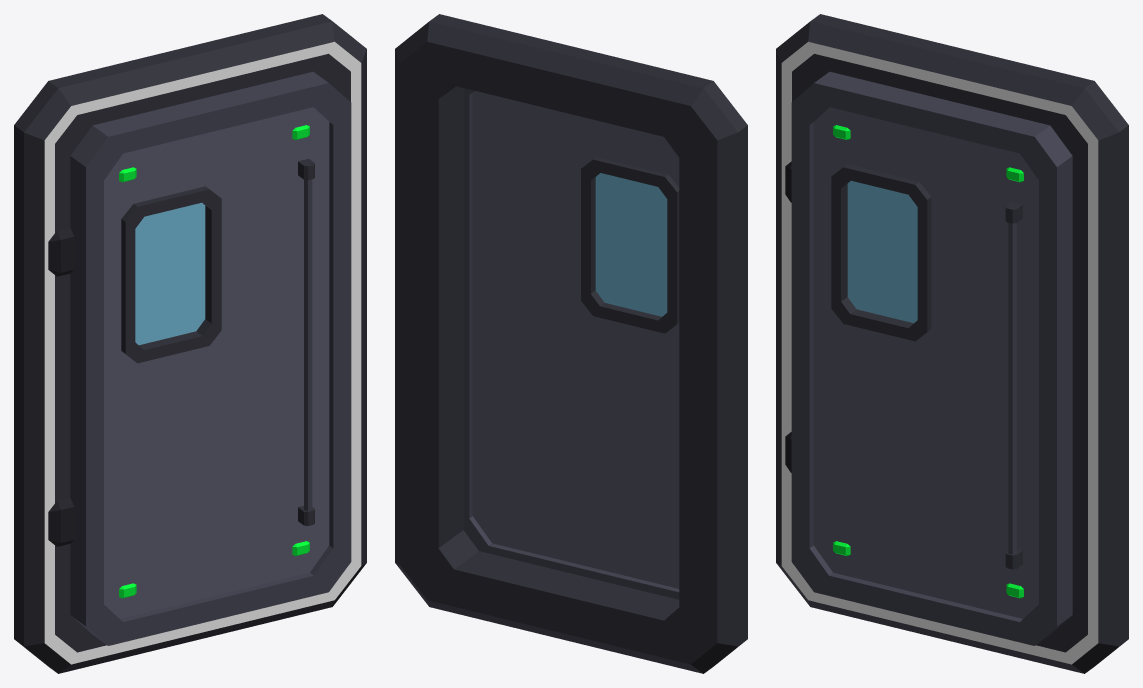
File: Door Small 01.fbx
3 views of the same model, side by side, from view 1: azimuth 30°, elevation 25°; view 2: azimuth 150°, elevation 25°; view 3: azimuth 330°, elevation 25° (orthographic).
Visible parts, largest first — view 1: Door, Door_Small_01; view 2: Door_Small_01, Door; view 3: Door, Door_Small_01.
Boxes of the visible parts, <box> form: Door: <box>70,71,351,645</box>; Door_Small_01: <box>14,14,366,673</box>; Door_Small_01: <box>395,14,747,673</box>; Door: <box>463,88,679,599</box>; Door: <box>791,71,1072,645</box>; Door_Small_01: <box>776,14,1128,673</box>.
Bounding box in the file's own units: 155 × 253 × 34.71.
